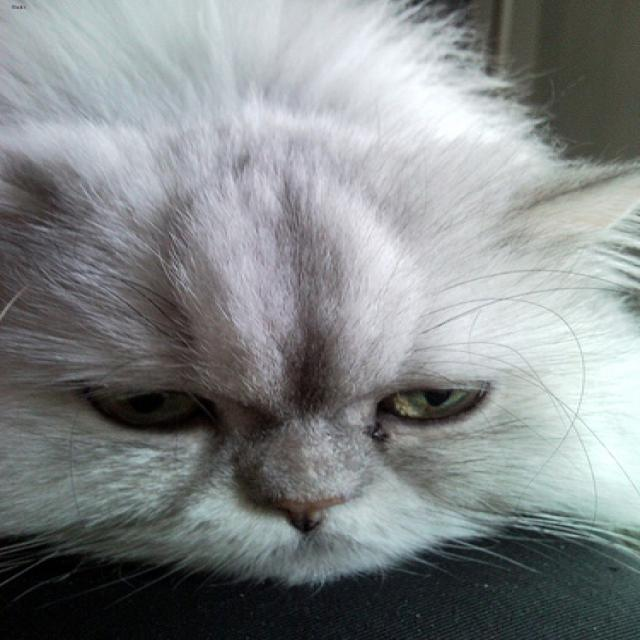Persian: (0, 126, 638, 578)
